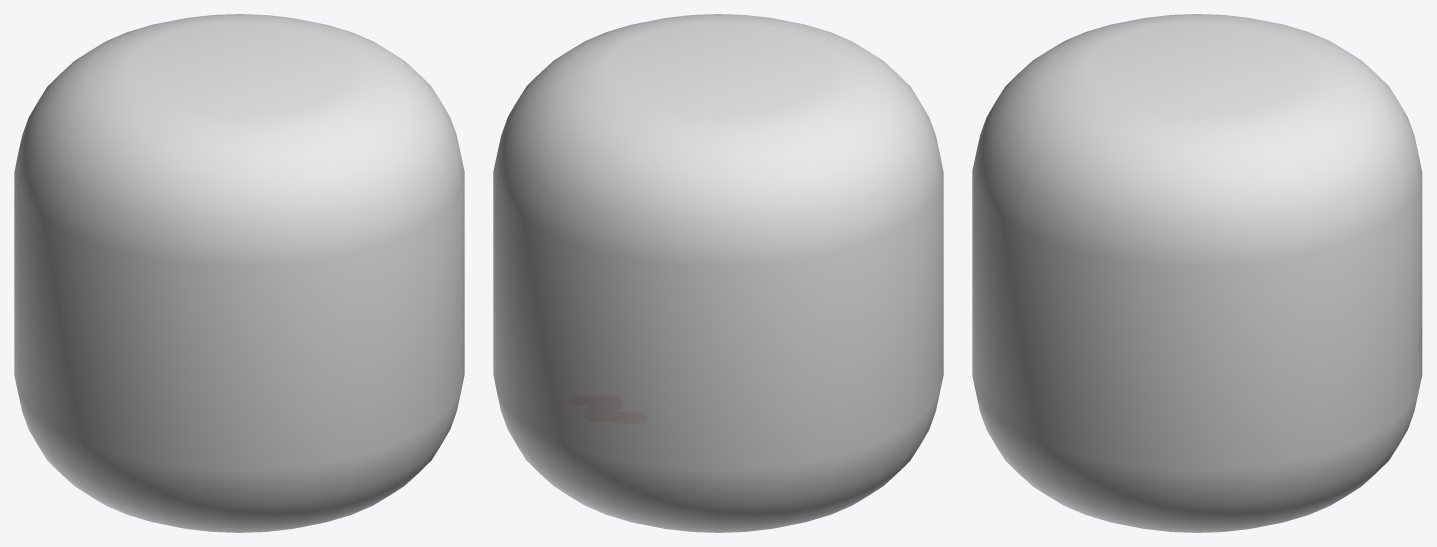
The model's file is 22-Silly-Smile-face.glb.
3 renders of one model, left to right at view 1: azimuth 30°, elevation 25°; view 2: azimuth 150°, elevation 25°; view 3: azimuth 270°, elevation 25°, orthographic.
Parts seen in each view (by area): view 1: 22-Silly-Smile-face; view 2: 22-Silly-Smile-face; view 3: 22-Silly-Smile-face.
Part boxes in pixels (left/top/right/bottom): 22-Silly-Smile-face: left=14, top=14, right=464, bottom=532; 22-Silly-Smile-face: left=493, top=14, right=943, bottom=532; 22-Silly-Smile-face: left=972, top=14, right=1422, bottom=532.
Bounding box in the file's own units: 1.2 × 1.2 × 1.2.
Materials: 2 (2 with a texture image).
